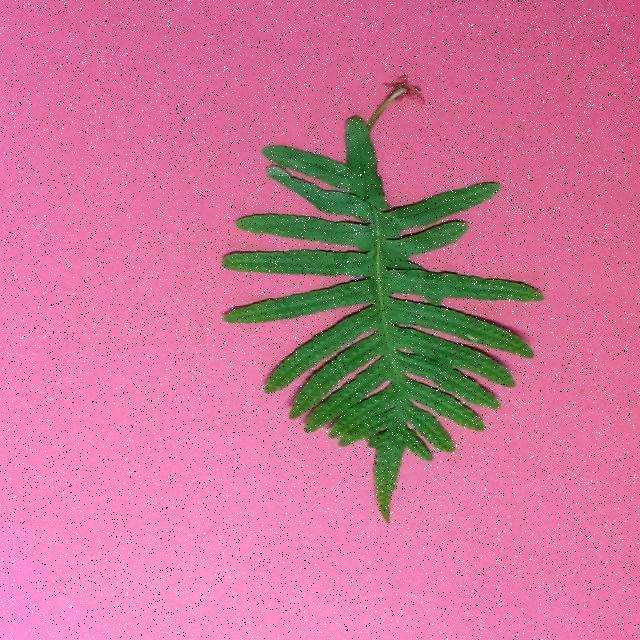foliage: (217, 75, 542, 525)
